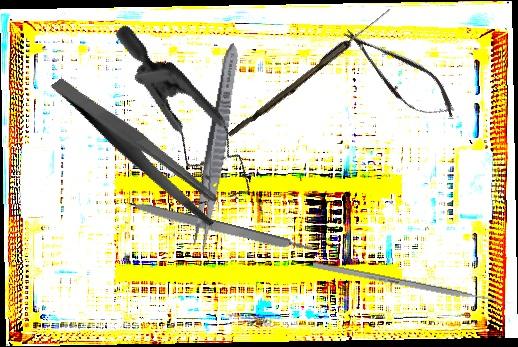Dressing Forceps: (49, 43, 229, 256), (189, 41, 244, 256)
Micro Scissor: (331, 14, 466, 133)
Pusher: (312, 261, 514, 308)
Scalpel Handle: (127, 199, 316, 258)
Speculum: (62, 21, 293, 228)
Surgical Spoon: (227, 4, 393, 142)
